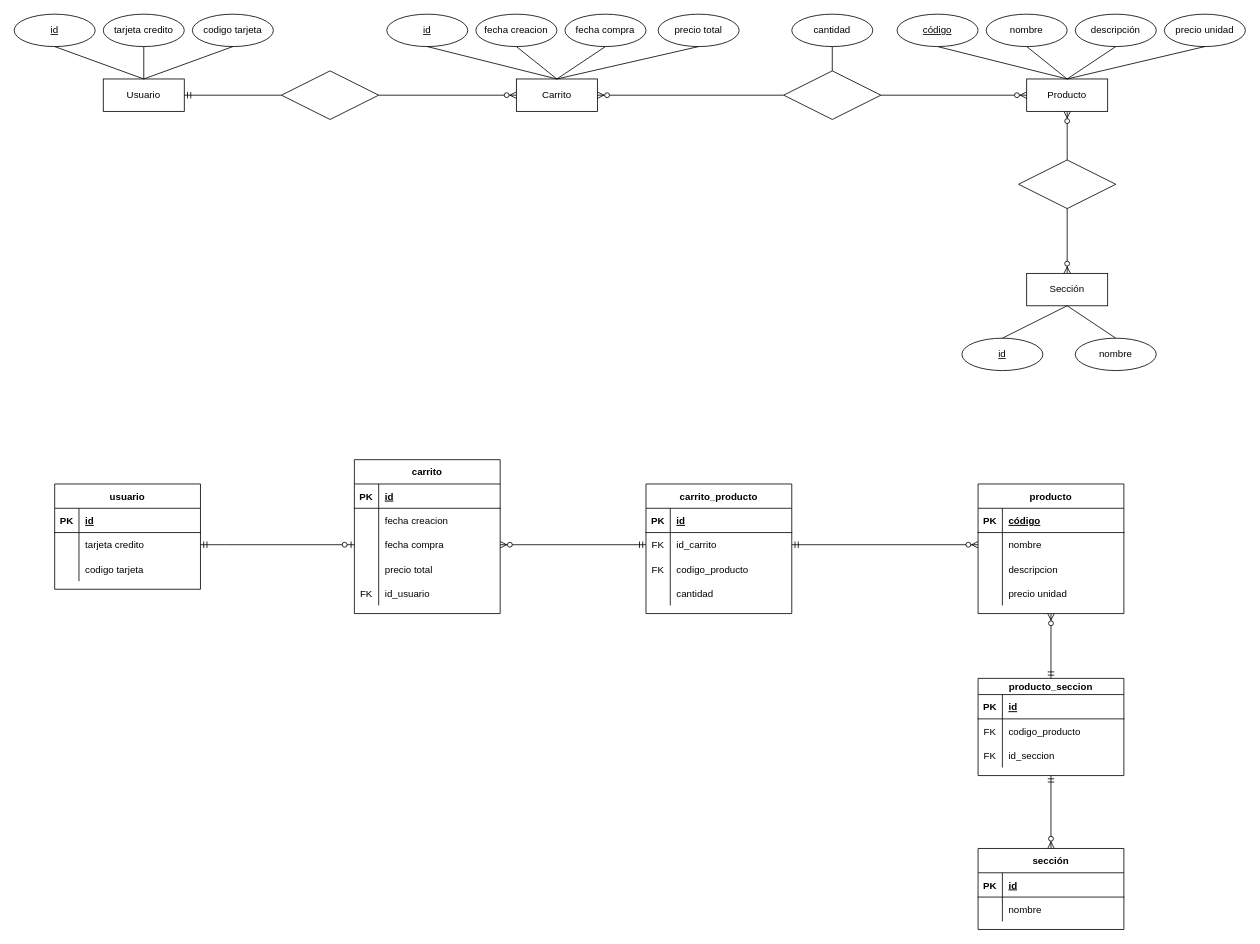
The diagram is 1260 pixels wide and 944 high, and some of its shapes have lost their labels. The centre of each missing label's shape, as x and y in pixels:
contiene: point (832, 94)
crea: point (330, 94)
pertenece: point (1067, 184)
